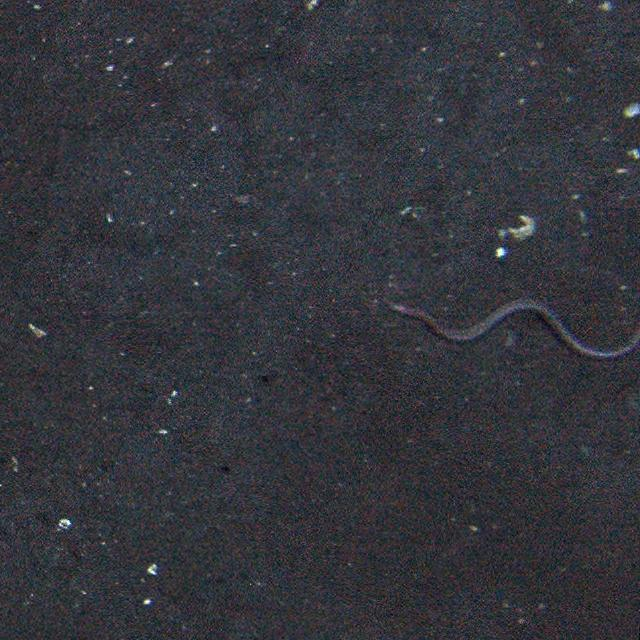eel: (388, 292, 638, 363)
